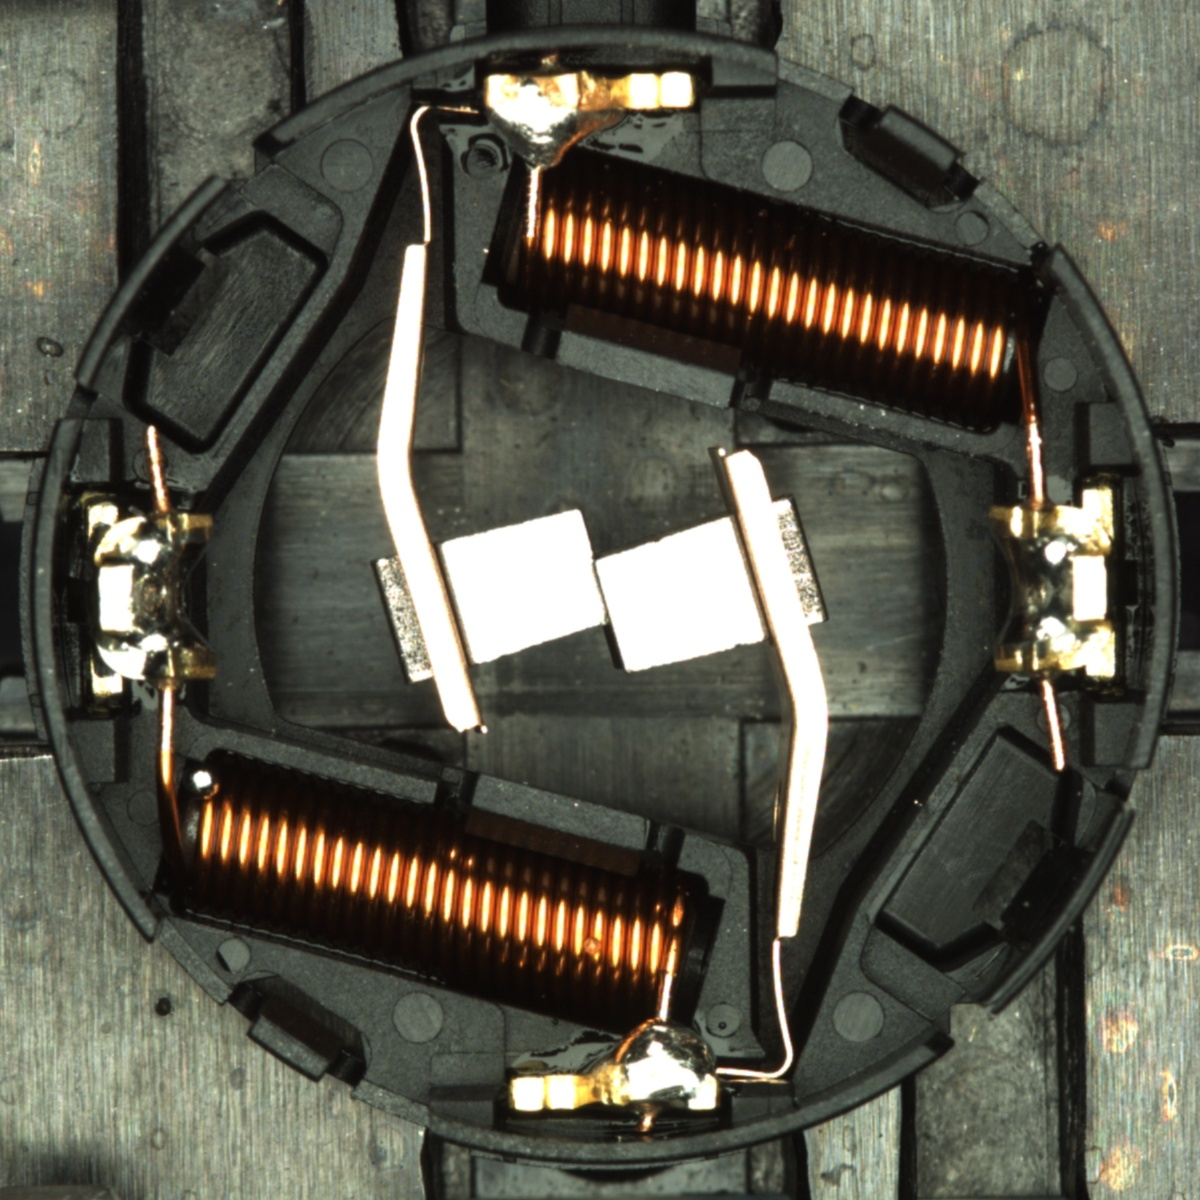1: (713, 926, 942, 1152), (254, 30, 484, 254)
2: (254, 926, 484, 1152), (713, 30, 942, 254)
3: (942, 702, 1171, 926), (25, 254, 254, 478)
4: (254, 254, 484, 478), (713, 702, 942, 926)
5: (484, 142, 713, 366), (484, 814, 713, 1038)
6: (254, 702, 484, 926), (713, 254, 942, 478)
7: (942, 254, 1171, 478), (25, 702, 254, 926)
bui_chi: (188, 764, 220, 799)
cacbon: (395, 497, 802, 685)
chau_dien: (81, 497, 221, 698), (982, 487, 1123, 685)
hat_chi: (186, 765, 220, 798)
tay_choi: (481, 69, 700, 173), (508, 1016, 722, 1115)
thanh_de: (954, 786, 1142, 1030), (60, 165, 245, 403)
